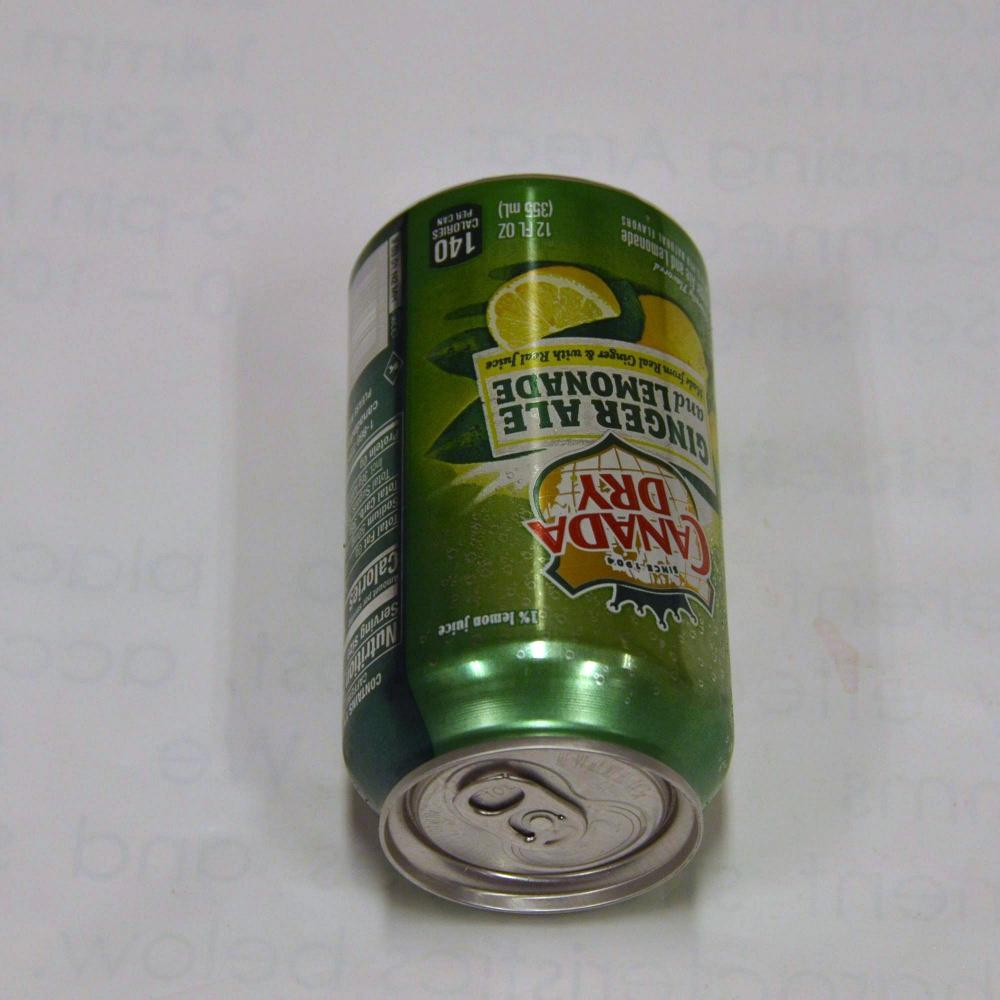Metal: (266, 135, 753, 908)
